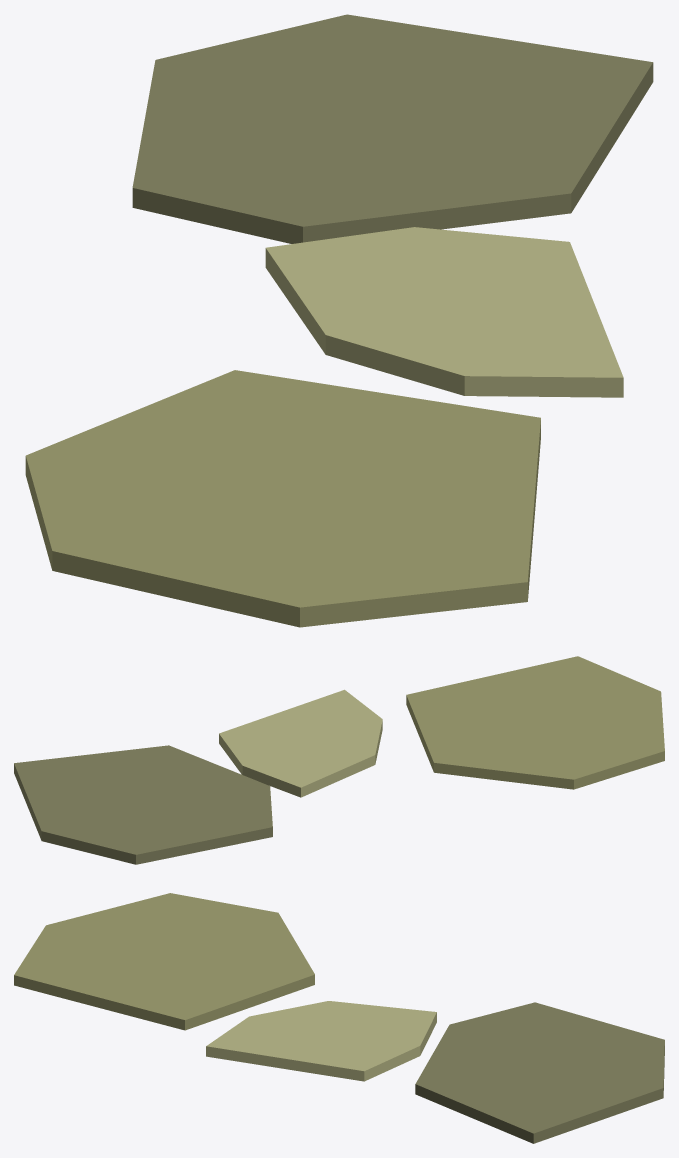
The model's file is RH_Stone01.fbx.
3 views of the same model, one above another, from view 1: azimuth 30°, elevation 25°; view 2: azimuth 150°, elevation 25°; view 3: azimuth 270°, elevation 25° (orthographic). The views are drawn at different scales.
Visible parts, largest first — view 1: RH_Stone01; view 2: RH_Stone01; view 3: RH_Stone01.
Part boxes in pixels (x1=…): RH_Stone01: x1=25, y1=14, x2=653, y2=627; RH_Stone01: x1=14, y1=656, x2=664, y2=864; RH_Stone01: x1=14, y1=893, x2=664, y2=1143.
Bounding box in the file's own units: 40.13 × 0.8033 × 45.89.
Materials: 1 (1 with a texture image).
